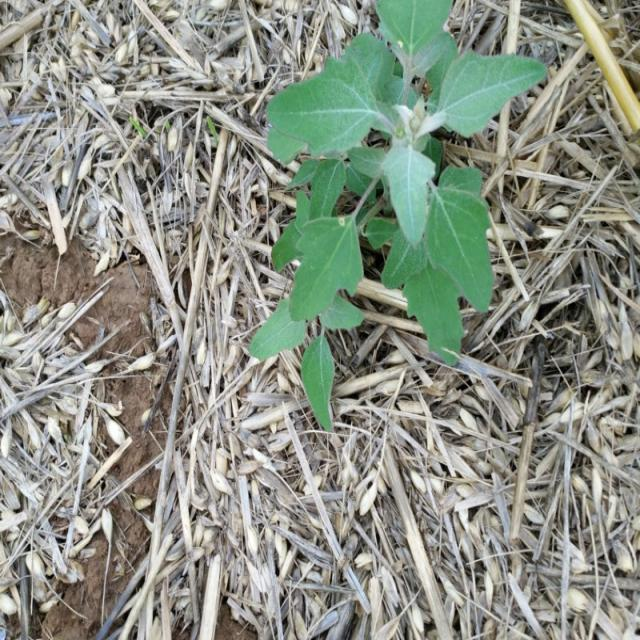goosefoots: (215, 8, 530, 371)
